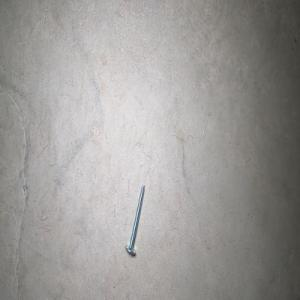Bolt: (124, 183, 145, 255)
